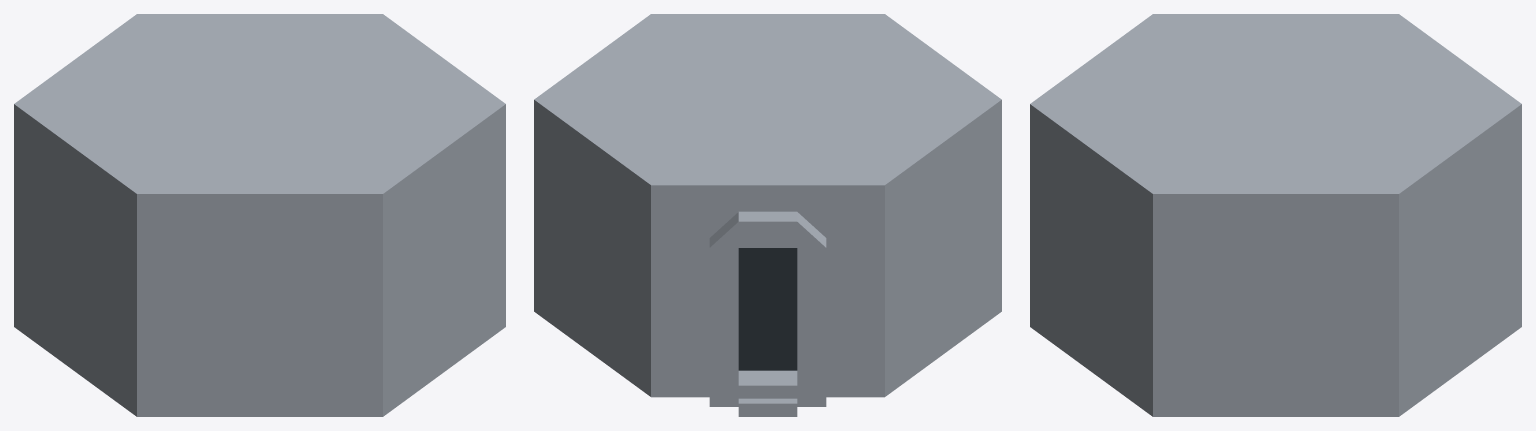
File: door1.fbx
3 views of the same model, side by side, from view 1: azimuth 30°, elevation 25°; view 2: azimuth 150°, elevation 25°; view 3: azimuth 270°, elevation 25° (orthographic). The views are drawn at different scales.
Visible parts, largest first — view 1: Cylinder; view 2: Cylinder; view 3: Cylinder.
Part boxes in pixels (left/top/right/bottom): Cylinder: left=14, top=14, right=505, bottom=416; Cylinder: left=534, top=14, right=1001, bottom=416; Cylinder: left=1030, top=14, right=1521, bottom=416.
Bounding box in the file's own units: 1.73 × 1 × 2.
